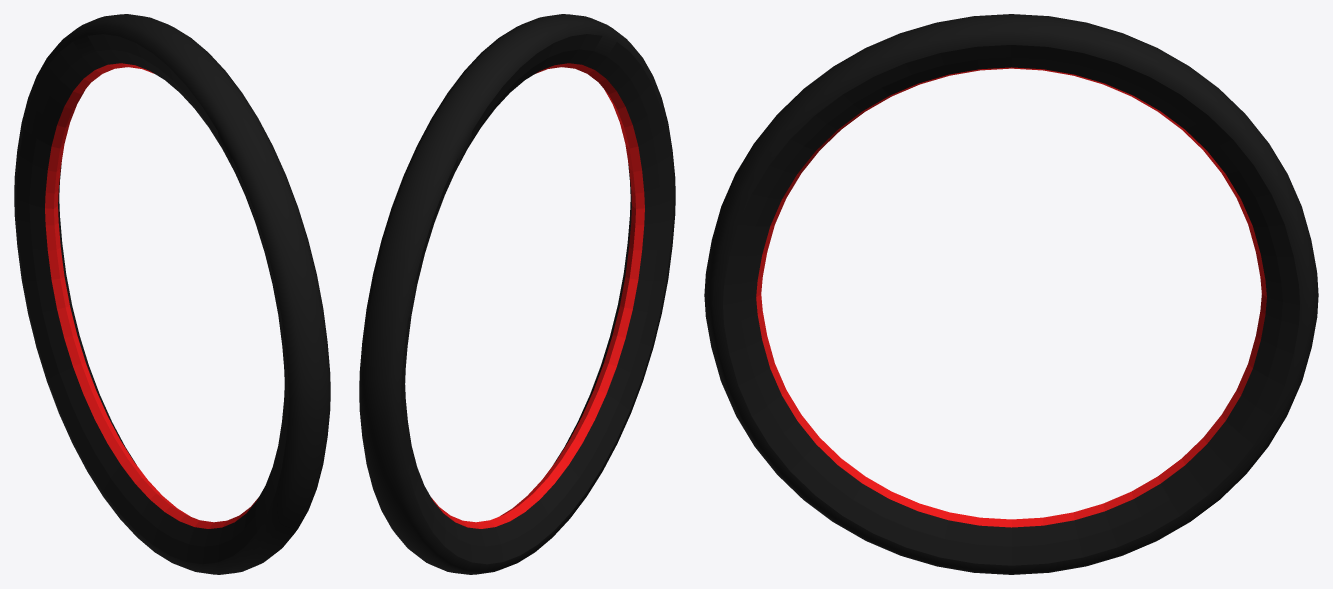
Rendered from RingV2.FBX.
3 views of the same model, side by side, from view 1: azimuth 30°, elevation 25°; view 2: azimuth 150°, elevation 25°; view 3: azimuth 270°, elevation 25° (orthographic). The views are drawn at different scales.
Visible parts, largest first — view 1: Torus005; view 2: Torus005; view 3: Torus005.
Part boxes in pixels (x1,y1,x2,y2): Torus005: [14, 14, 330, 574]; Torus005: [359, 14, 675, 574]; Torus005: [704, 14, 1318, 574].
Bounding box in the file's own units: 199 × 2473 × 2484.
